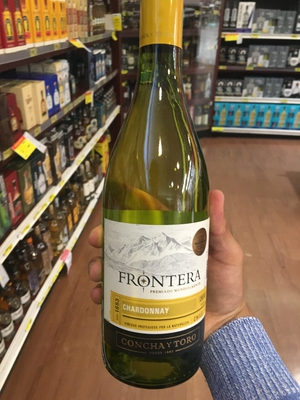frontera chardonnay: (96, 10, 223, 380)
